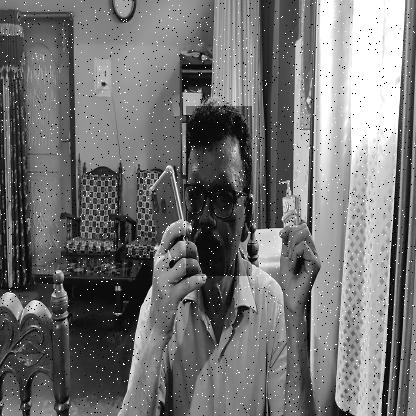Distracted: (186, 106, 252, 276)
